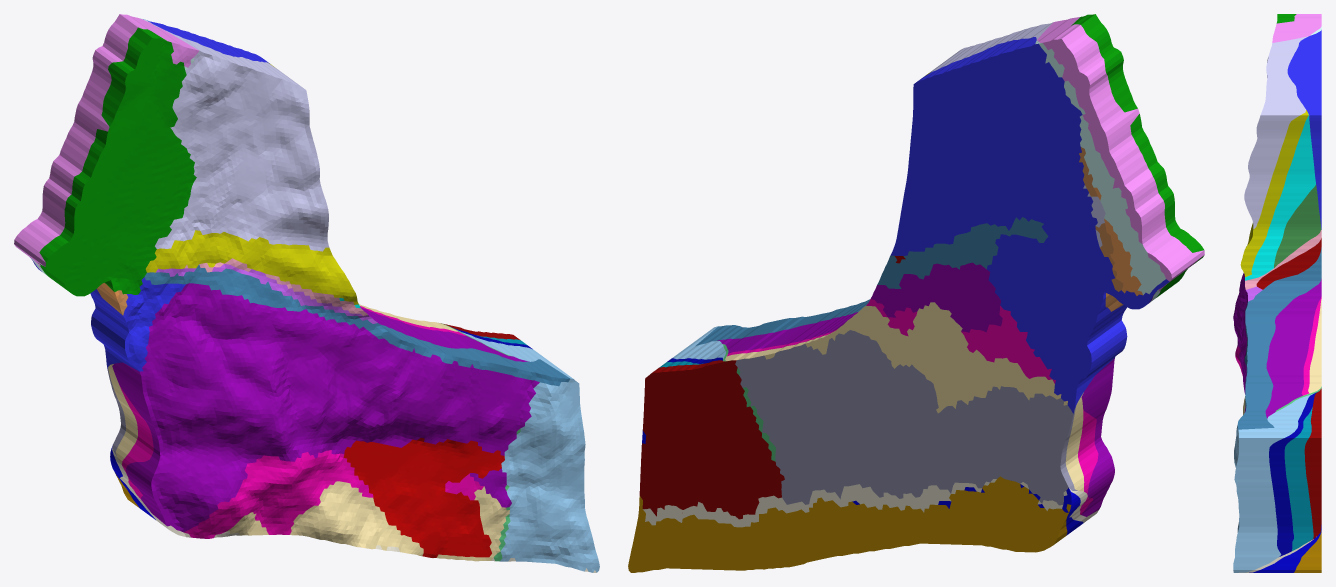
File: demo.gltf
3 renders of one model, left to right at view 1: azimuth 30°, elevation 25°; view 2: azimuth 150°, elevation 25°; view 3: azimuth 270°, elevation 25°, orthographic. The views are drawn at different scales.
Visible parts, largest first — view 1: Renderer Node; view 2: Renderer Node; view 3: Renderer Node.
Boxes of the visible parts, box(x1,y1,x2,y2) form: Renderer Node: box(14, 14, 599, 572); Renderer Node: box(628, 14, 1204, 572); Renderer Node: box(1233, 14, 1321, 572).
Bounding box in the file's own units: 6491 × 7290 × 1392.
